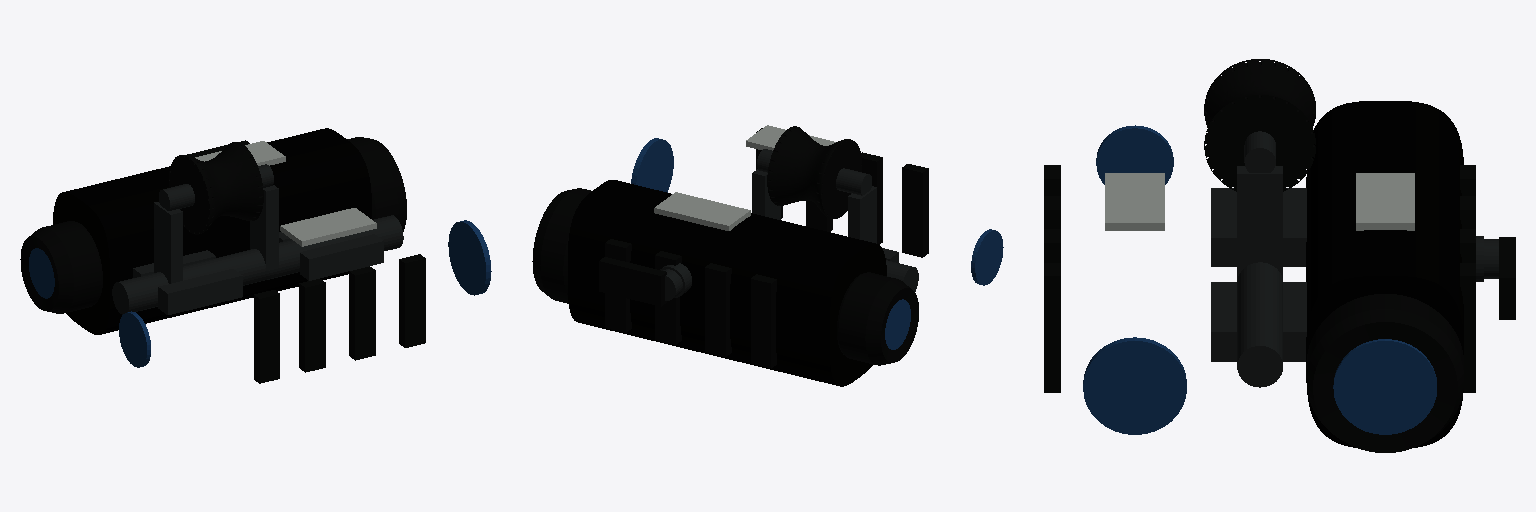
URDF robot description (image_stabilized_10x30_binocular):
<robot name="image_stabilized_10x30_binocular">
  <material name="matte_black_rubber">
    <color rgba="0.015 0.015 0.014 1" />
    </material>
  <material name="dark_charcoal_rubber">
    <color rgba="0.045 0.047 0.045 1" />
    </material>
  <material name="graphite_polymer">
    <color rgba="0.12 0.13 0.13 1" />
    </material>
  <material name="blue_coated_glass">
    <color rgba="0.1 0.22 0.36 0.55" />
    </material>
  <material name="muted_silver_label">
    <color rgba="0.55 0.57 0.55 1" />
    </material>
  <link name="left_body">
    <visual name="left_armor">
      <origin xyz="0 -0.038 0" rpy="0 0 0" />
      <geometry>
        <mesh filename="assets/meshes/left_armor.obj" />
        </geometry>
      <material name="matte_black_rubber">
        <color rgba="0.015 0.015 0.014 1" />
        </material>
      </visual>
    <visual name="left_objective_ring">
      <origin xyz="0.07 -0.038 0" rpy="0 0 0" />
      <geometry>
        <mesh filename="assets/meshes/left_objective_ring.obj" />
        </geometry>
      <material name="dark_charcoal_rubber">
        <color rgba="0.045 0.047 0.045 1" />
        </material>
      </visual>
    <visual name="left_eyepiece_ring">
      <origin xyz="-0.071 -0.038 0" rpy="0 0 0" />
      <geometry>
        <mesh filename="assets/meshes/left_eyepiece_ring.obj" />
        </geometry>
      <material name="dark_charcoal_rubber">
        <color rgba="0.045 0.047 0.045 1" />
        </material>
      </visual>
    <visual name="left_objective_glass">
      <origin xyz="0.08 -0.038 0" rpy="0 1.5708 0" />
      <geometry>
        <cylinder radius="0.0158" length="0.0025" />
        </geometry>
      <material name="blue_coated_glass">
        <color rgba="0.1 0.22 0.36 0.55" />
        </material>
      </visual>
    <visual name="left_eyepiece_glass">
      <origin xyz="-0.081 -0.038 0" rpy="0 1.5708 0" />
      <geometry>
        <cylinder radius="0.0118" length="0.002" />
        </geometry>
      <material name="blue_coated_glass">
        <color rgba="0.1 0.22 0.36 0.55" />
        </material>
      </visual>
    <visual name="left_grip_rib_0">
      <origin xyz="-0.032 -0.063 0" rpy="0 0 0" />
      <geometry>
        <box size="0.01 0.005 0.039" />
        </geometry>
      <material name="dark_charcoal_rubber">
        <color rgba="0.045 0.047 0.045 1" />
        </material>
      </visual>
    <visual name="left_grip_rib_1">
      <origin xyz="-0.01 -0.063 0" rpy="0 0 0" />
      <geometry>
        <box size="0.01 0.005 0.039" />
        </geometry>
      <material name="dark_charcoal_rubber">
        <color rgba="0.045 0.047 0.045 1" />
        </material>
      </visual>
    <visual name="left_grip_rib_2">
      <origin xyz="0.014 -0.063 0" rpy="0 0 0" />
      <geometry>
        <box size="0.01 0.005 0.039" />
        </geometry>
      <material name="dark_charcoal_rubber">
        <color rgba="0.045 0.047 0.045 1" />
        </material>
      </visual>
    <visual name="left_grip_rib_3">
      <origin xyz="0.038 -0.063 0" rpy="0 0 0" />
      <geometry>
        <box size="0.01 0.005 0.039" />
        </geometry>
      <material name="dark_charcoal_rubber">
        <color rgba="0.045 0.047 0.045 1" />
        </material>
      </visual>
    <visual name="left_10x30_plate">
      <origin xyz="0.012 -0.038 0.03" rpy="0 0 0" />
      <geometry>
        <box size="0.036 0.018 0.0025" />
        </geometry>
      <material name="muted_silver_label">
        <color rgba="0.55 0.57 0.55 1" />
        </material>
      </visual>
    <visual name="central_hinge_pin">
      <origin xyz="0 0 0" rpy="0 1.5708 0" />
      <geometry>
        <cylinder radius="0.007" length="0.132" />
        </geometry>
      <material name="graphite_polymer">
        <color rgba="0.12 0.13 0.13 1" />
        </material>
      </visual>
    <visual name="left_bridge_lug_0">
      <origin xyz="-0.034 -0.011 0" rpy="0 0 0" />
      <geometry>
        <box size="0.036 0.008 0.01" />
        </geometry>
      <material name="graphite_polymer">
        <color rgba="0.12 0.13 0.13 1" />
        </material>
      </visual>
    <visual name="left_bridge_lug_1">
      <origin xyz="0.034 -0.011 0" rpy="0 0 0" />
      <geometry>
        <box size="0.036 0.008 0.01" />
        </geometry>
      <material name="graphite_polymer">
        <color rgba="0.12 0.13 0.13 1" />
        </material>
      </visual>
    <visual name="focus_fork_0">
      <origin xyz="-0.043 0 0.0183" rpy="0 0 0" />
      <geometry>
        <box size="0.006 0.014 0.0366" />
        </geometry>
      <material name="graphite_polymer">
        <color rgba="0.12 0.13 0.13 1" />
        </material>
      </visual>
    <visual name="focus_fork_1">
      <origin xyz="0.003 0 0.0183" rpy="0 0 0" />
      <geometry>
        <box size="0.006 0.014 0.0366" />
        </geometry>
      <material name="graphite_polymer">
        <color rgba="0.12 0.13 0.13 1" />
        </material>
      </visual>
    <visual name="focus_axle">
      <origin xyz="-0.02 0 0.04" rpy="0 1.5708 0" />
      <geometry>
        <cylinder radius="0.0048" length="0.05" />
        </geometry>
      <material name="graphite_polymer">
        <color rgba="0.12 0.13 0.13 1" />
        </material>
      </visual>
    <collision name="left_armor">
      <origin xyz="0 -0.038 0" rpy="0 0 0" />
      <geometry>
        <mesh filename="assets/meshes/left_armor.obj" />
        </geometry>
      </collision>
    <collision name="left_objective_ring">
      <origin xyz="0.07 -0.038 0" rpy="0 0 0" />
      <geometry>
        <mesh filename="assets/meshes/left_objective_ring.obj" />
        </geometry>
      </collision>
    <collision name="left_eyepiece_ring">
      <origin xyz="-0.071 -0.038 0" rpy="0 0 0" />
      <geometry>
        <mesh filename="assets/meshes/left_eyepiece_ring.obj" />
        </geometry>
      </collision>
    <collision name="left_objective_glass">
      <origin xyz="0.08 -0.038 0" rpy="0 1.5708 0" />
      <geometry>
        <cylinder radius="0.0158" length="0.0025" />
        </geometry>
      </collision>
    <collision name="left_eyepiece_glass">
      <origin xyz="-0.081 -0.038 0" rpy="0 1.5708 0" />
      <geometry>
        <cylinder radius="0.0118" length="0.002" />
        </geometry>
      </collision>
    <collision name="left_grip_rib_0">
      <origin xyz="-0.032 -0.063 0" rpy="0 0 0" />
      <geometry>
        <box size="0.01 0.005 0.039" />
        </geometry>
      </collision>
    <collision name="left_grip_rib_1">
      <origin xyz="-0.01 -0.063 0" rpy="0 0 0" />
      <geometry>
        <box size="0.01 0.005 0.039" />
        </geometry>
      </collision>
    <collision name="left_grip_rib_2">
      <origin xyz="0.014 -0.063 0" rpy="0 0 0" />
      <geometry>
        <box size="0.01 0.005 0.039" />
        </geometry>
      </collision>
    <collision name="left_grip_rib_3">
      <origin xyz="0.038 -0.063 0" rpy="0 0 0" />
      <geometry>
        <box size="0.01 0.005 0.039" />
        </geometry>
      </collision>
    <collision name="left_10x30_plate">
      <origin xyz="0.012 -0.038 0.03" rpy="0 0 0" />
      <geometry>
        <box size="0.036 0.018 0.0025" />
        </geometry>
      </collision>
    <collision name="central_hinge_pin">
      <origin xyz="0 0 0" rpy="0 1.5708 0" />
      <geometry>
        <cylinder radius="0.007" length="0.132" />
        </geometry>
      </collision>
    <collision name="left_bridge_lug_0">
      <origin xyz="-0.034 -0.011 0" rpy="0 0 0" />
      <geometry>
        <box size="0.036 0.008 0.01" />
        </geometry>
      </collision>
    <collision name="left_bridge_lug_1">
      <origin xyz="0.034 -0.011 0" rpy="0 0 0" />
      <geometry>
        <box size="0.036 0.008 0.01" />
        </geometry>
      </collision>
    <collision name="focus_fork_0">
      <origin xyz="-0.043 0 0.0183" rpy="0 0 0" />
      <geometry>
        <box size="0.006 0.014 0.0366" />
        </geometry>
      </collision>
    <collision name="focus_fork_1">
      <origin xyz="0.003 0 0.0183" rpy="0 0 0" />
      <geometry>
        <box size="0.006 0.014 0.0366" />
        </geometry>
      </collision>
    <collision name="focus_axle">
      <origin xyz="-0.02 0 0.04" rpy="0 1.5708 0" />
      <geometry>
        <cylinder radius="0.0048" length="0.05" />
        </geometry>
      </collision>
    </link>
  <link name="right_body">
    <visual name="right_armor">
      <origin xyz="0 0.038 0" rpy="0 0 0" />
      <geometry>
        <mesh filename="assets/meshes/right_armor.obj" />
        </geometry>
      <material name="matte_black_rubber">
        <color rgba="0.015 0.015 0.014 1" />
        </material>
      </visual>
    <visual name="right_objective_ring">
      <origin xyz="0.07 0.038 0" rpy="0 0 0" />
      <geometry>
        <mesh filename="assets/meshes/right_objective_ring.obj" />
        </geometry>
      <material name="dark_charcoal_rubber">
        <color rgba="0.045 0.047 0.045 1" />
        </material>
      </visual>
    <visual name="right_eyepiece_ring">
      <origin xyz="-0.071 0.038 0" rpy="0 0 0" />
      <geometry>
        <mesh filename="assets/meshes/right_eyepiece_ring.obj" />
        </geometry>
      <material name="dark_charcoal_rubber">
        <color rgba="0.045 0.047 0.045 1" />
        </material>
      </visual>
    <visual name="right_objective_glass">
      <origin xyz="0.08 0.038 0" rpy="0 1.5708 0" />
      <geometry>
        <cylinder radius="0.0158" length="0.0025" />
        </geometry>
      <material name="blue_coated_glass">
        <color rgba="0.1 0.22 0.36 0.55" />
        </material>
      </visual>
    <visual name="right_eyepiece_glass">
      <origin xyz="-0.081 0.038 0" rpy="0 1.5708 0" />
      <geometry>
        <cylinder radius="0.0118" length="0.002" />
        </geometry>
      <material name="blue_coated_glass">
        <color rgba="0.1 0.22 0.36 0.55" />
        </material>
      </visual>
    <visual name="right_grip_rib_0">
      <origin xyz="-0.032 0.063 0" rpy="0 0 0" />
      <geometry>
        <box size="0.01 0.005 0.039" />
        </geometry>
      <material name="dark_charcoal_rubber">
        <color rgba="0.045 0.047 0.045 1" />
        </material>
      </visual>
    <visual name="right_grip_rib_1">
      <origin xyz="-0.01 0.063 0" rpy="0 0 0" />
      <geometry>
        <box size="0.01 0.005 0.039" />
        </geometry>
      <material name="dark_charcoal_rubber">
        <color rgba="0.045 0.047 0.045 1" />
        </material>
      </visual>
    <visual name="right_grip_rib_2">
      <origin xyz="0.014 0.063 0" rpy="0 0 0" />
      <geometry>
        <box size="0.01 0.005 0.039" />
        </geometry>
      <material name="dark_charcoal_rubber">
        <color rgba="0.045 0.047 0.045 1" />
        </material>
      </visual>
    <visual name="right_grip_rib_3">
      <origin xyz="0.038 0.063 0" rpy="0 0 0" />
      <geometry>
        <box size="0.01 0.005 0.039" />
        </geometry>
      <material name="dark_charcoal_rubber">
        <color rgba="0.045 0.047 0.045 1" />
        </material>
      </visual>
    <visual name="right_is_plate">
      <origin xyz="0.012 0.038 0.03" rpy="0 0 0" />
      <geometry>
        <box size="0.036 0.018 0.0025" />
        </geometry>
      <material name="muted_silver_label">
        <color rgba="0.55 0.57 0.55 1" />
        </material>
      </visual>
    <visual name="right_bridge_lug_0">
      <origin xyz="-0.034 0.011 0" rpy="0 0 0" />
      <geometry>
        <box size="0.036 0.008 0.01" />
        </geometry>
      <material name="graphite_polymer">
        <color rgba="0.12 0.13 0.13 1" />
        </material>
      </visual>
    <visual name="right_bridge_lug_1">
      <origin xyz="0.034 0.011 0" rpy="0 0 0" />
      <geometry>
        <box size="0.036 0.008 0.01" />
        </geometry>
      <material name="graphite_polymer">
        <color rgba="0.12 0.13 0.13 1" />
        </material>
      </visual>
    <visual name="stabilizer_boss">
      <origin xyz="0.01 0.065 0.01" rpy="1.5708 0 0" />
      <geometry>
        <cylinder radius="0.007" length="0.006" />
        </geometry>
      <material name="graphite_polymer">
        <color rgba="0.12 0.13 0.13 1" />
        </material>
      </visual>
    <collision name="right_armor">
      <origin xyz="0 0.038 0" rpy="0 0 0" />
      <geometry>
        <mesh filename="assets/meshes/right_armor.obj" />
        </geometry>
      </collision>
    <collision name="right_objective_ring">
      <origin xyz="0.07 0.038 0" rpy="0 0 0" />
      <geometry>
        <mesh filename="assets/meshes/right_objective_ring.obj" />
        </geometry>
      </collision>
    <collision name="right_eyepiece_ring">
      <origin xyz="-0.071 0.038 0" rpy="0 0 0" />
      <geometry>
        <mesh filename="assets/meshes/right_eyepiece_ring.obj" />
        </geometry>
      </collision>
    <collision name="right_objective_glass">
      <origin xyz="0.08 0.038 0" rpy="0 1.5708 0" />
      <geometry>
        <cylinder radius="0.0158" length="0.0025" />
        </geometry>
      </collision>
    <collision name="right_eyepiece_glass">
      <origin xyz="-0.081 0.038 0" rpy="0 1.5708 0" />
      <geometry>
        <cylinder radius="0.0118" length="0.002" />
        </geometry>
      </collision>
    <collision name="right_grip_rib_0">
      <origin xyz="-0.032 0.063 0" rpy="0 0 0" />
      <geometry>
        <box size="0.01 0.005 0.039" />
        </geometry>
      </collision>
    <collision name="right_grip_rib_1">
      <origin xyz="-0.01 0.063 0" rpy="0 0 0" />
      <geometry>
        <box size="0.01 0.005 0.039" />
        </geometry>
      </collision>
    <collision name="right_grip_rib_2">
      <origin xyz="0.014 0.063 0" rpy="0 0 0" />
      <geometry>
        <box size="0.01 0.005 0.039" />
        </geometry>
      </collision>
    <collision name="right_grip_rib_3">
      <origin xyz="0.038 0.063 0" rpy="0 0 0" />
      <geometry>
        <box size="0.01 0.005 0.039" />
        </geometry>
      </collision>
    <collision name="right_is_plate">
      <origin xyz="0.012 0.038 0.03" rpy="0 0 0" />
      <geometry>
        <box size="0.036 0.018 0.0025" />
        </geometry>
      </collision>
    <collision name="right_bridge_lug_0">
      <origin xyz="-0.034 0.011 0" rpy="0 0 0" />
      <geometry>
        <box size="0.036 0.008 0.01" />
        </geometry>
      </collision>
    <collision name="right_bridge_lug_1">
      <origin xyz="0.034 0.011 0" rpy="0 0 0" />
      <geometry>
        <box size="0.036 0.008 0.01" />
        </geometry>
      </collision>
    <collision name="stabilizer_boss">
      <origin xyz="0.01 0.065 0.01" rpy="1.5708 0 0" />
      <geometry>
        <cylinder radius="0.007" length="0.006" />
        </geometry>
      </collision>
    </link>
  <link name="focus_knob">
    <visual name="focus_wheel">
      <geometry>
        <mesh filename="assets/meshes/focus_wheel.obj" />
        </geometry>
      <material name="dark_charcoal_rubber">
        <color rgba="0.045 0.047 0.045 1" />
        </material>
      </visual>
    <collision name="focus_wheel">
      <geometry>
        <mesh filename="assets/meshes/focus_wheel.obj" />
        </geometry>
      </collision>
    </link>
  <link name="stabilizer_lever">
    <visual name="lever_knuckle">
      <origin xyz="0 0.003 0" rpy="1.5708 0 0" />
      <geometry>
        <cylinder radius="0.006" length="0.006" />
        </geometry>
      <material name="graphite_polymer">
        <color rgba="0.12 0.13 0.13 1" />
        </material>
      </visual>
    <visual name="lever_paddle">
      <origin xyz="0.014 0.007 0" rpy="0 0 0" />
      <geometry>
        <box size="0.03 0.005 0.014" />
        </geometry>
      <material name="dark_charcoal_rubber">
        <color rgba="0.045 0.047 0.045 1" />
        </material>
      </visual>
    <collision name="lever_knuckle">
      <origin xyz="0 0.003 0" rpy="1.5708 0 0" />
      <geometry>
        <cylinder radius="0.006" length="0.006" />
        </geometry>
      </collision>
    <collision name="lever_paddle">
      <origin xyz="0.014 0.007 0" rpy="0 0 0" />
      <geometry>
        <box size="0.03 0.005 0.014" />
        </geometry>
      </collision>
    </link>
  <joint name="center_hinge" type="revolute">
    <parent link="left_body" />
    <child link="right_body" />
    <axis xyz="1 0 0" />
    <limit effort="3" velocity="0.8" lower="-0.16" upper="0.16" />
    </joint>
  <joint name="focus_joint" type="revolute">
    <origin xyz="-0.02 0 0.04" rpy="0 0 0" />
    <parent link="left_body" />
    <child link="focus_knob" />
    <axis xyz="1 0 0" />
    <limit effort="0.25" velocity="6" lower="-2.6" upper="2.6" />
    </joint>
  <joint name="lever_hinge" type="revolute">
    <origin xyz="0.01 0.068 0.01" rpy="0 0 0" />
    <parent link="right_body" />
    <child link="stabilizer_lever" />
    <axis xyz="0 1 0" />
    <limit effort="0.15" velocity="3" lower="0" upper="0.5" />
    </joint>
  </robot>

--- What the picture shows (computed from the rendered views, not written in the file) ---
Views: 3 orthographic renders of the robot side by side, from view 1: azimuth 30°, elevation 25°; view 2: azimuth 150°, elevation 25°; view 3: azimuth 270°, elevation 25°.
Model image_stabilized_10x30_binocular with 4 links and 3 joints (3 revolute), rooted at left_body, posed all joints at 0.
Links seen in each view (by area): view 1: left_body, right_body, focus_knob; view 2: right_body, left_body, focus_knob, stabilizer_lever; view 3: right_body, left_body, focus_knob, stabilizer_lever.
Link boxes in pixels (x1,y1,x2,y2): left_body: [112, 164, 491, 383]; right_body: [20, 128, 406, 334]; focus_knob: [169, 142, 263, 234]; right_body: [532, 180, 918, 386]; left_body: [631, 125, 1003, 291]; focus_knob: [767, 126, 861, 218]; stabilizer_lever: [599, 257, 682, 306]; right_body: [1283, 101, 1483, 452]; left_body: [1044, 125, 1282, 434]; focus_knob: [1204, 59, 1315, 191]; stabilizer_lever: [1484, 237, 1515, 319].
Size in the robot's own frame: 0.1643 by 0.143 by 0.086 metres.
4 mesh visuals loaded from 7 distinct referenced files (4 OBJ); not drawn: 3 (reference not matched to a file when rendering).
